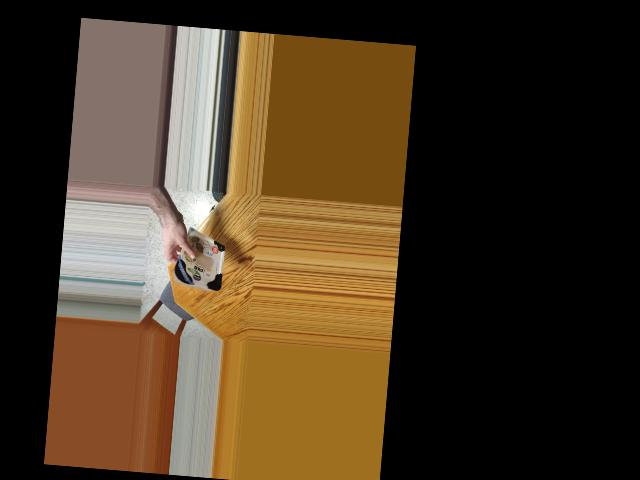cheese: (180, 231, 221, 292)
